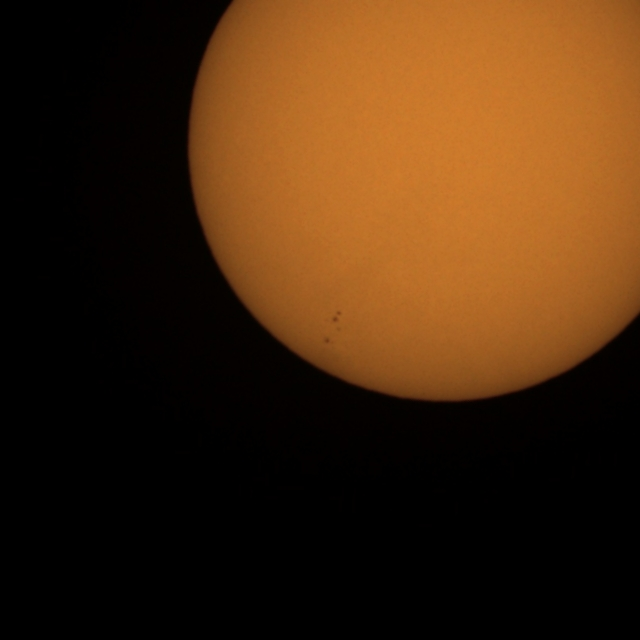sunspot: (325, 308, 343, 340), (329, 309, 343, 326), (323, 336, 333, 346)
